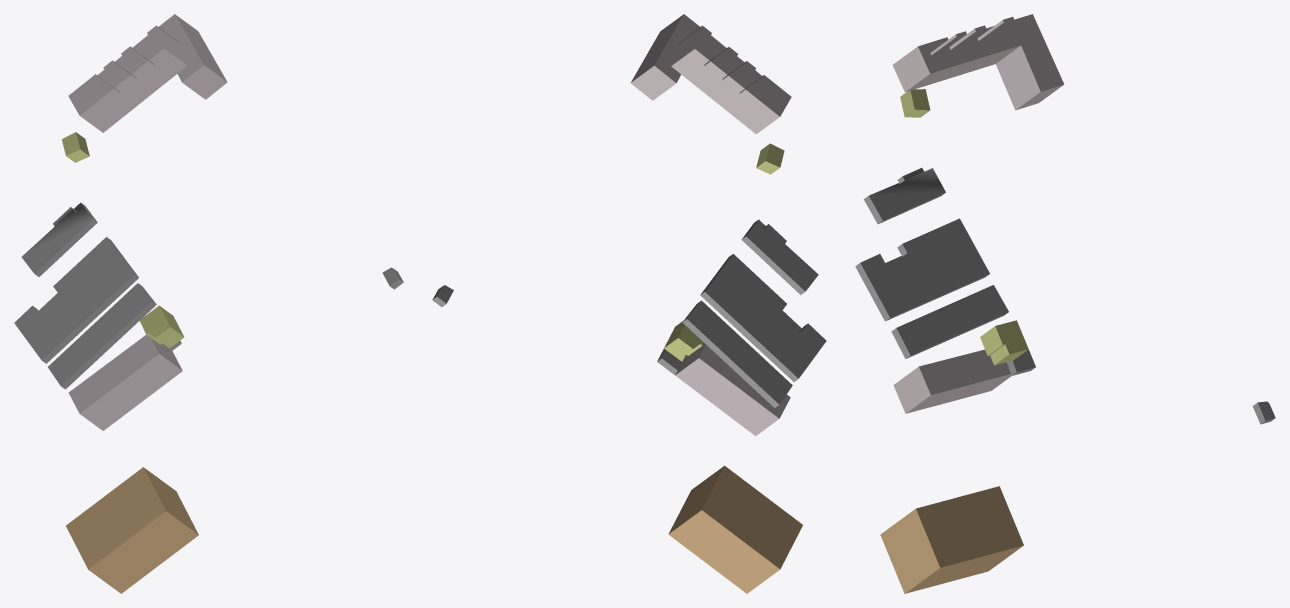
The picture shows the model from 3 angles, left to right: view 1: azimuth 30°, elevation 25°; view 2: azimuth 150°, elevation 25°; view 3: azimuth 330°, elevation 25°; orthographic projection. The views are drawn at different scales.
Visible parts, largest first — view 1: 0_1_0_2_1_2_3; view 2: 0_1_0_2_1_2_3; view 3: 0_1_0_2_1_2_3.
Part boxes in pixels (<box>): 0_1_0_2_1_2_3: <box>14,14,403,593</box>; 0_1_0_2_1_2_3: <box>432,14,826,593</box>; 0_1_0_2_1_2_3: <box>855,14,1275,593</box>.
Size of the model in its own units: 141 by 188 by 21.2.
